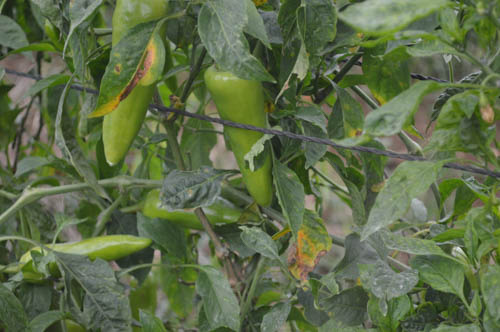ChiliPepper: (100, 2, 168, 167), (205, 66, 270, 206), (142, 188, 245, 232), (21, 237, 153, 269)
